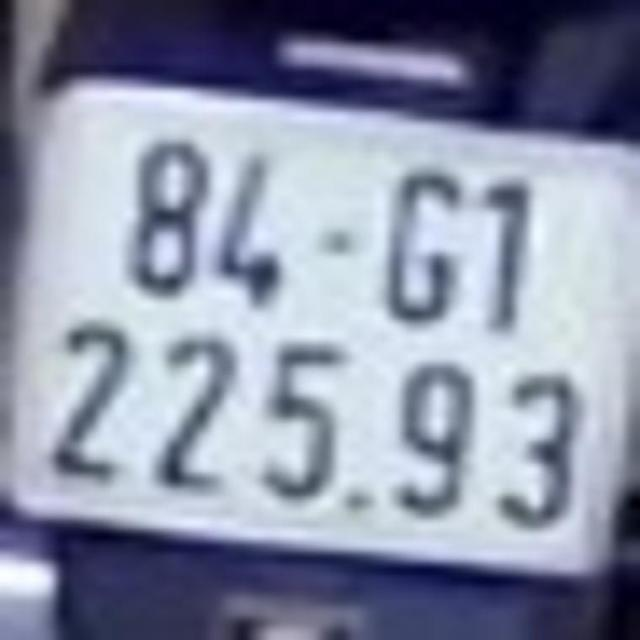1: (476, 168, 536, 336)
2: (155, 328, 236, 493), (51, 316, 130, 483)
3: (499, 364, 580, 532)
4: (217, 148, 284, 311)
5: (262, 337, 343, 502)
8: (128, 134, 207, 298)
9: (396, 353, 472, 519)
G: (383, 161, 465, 326)
